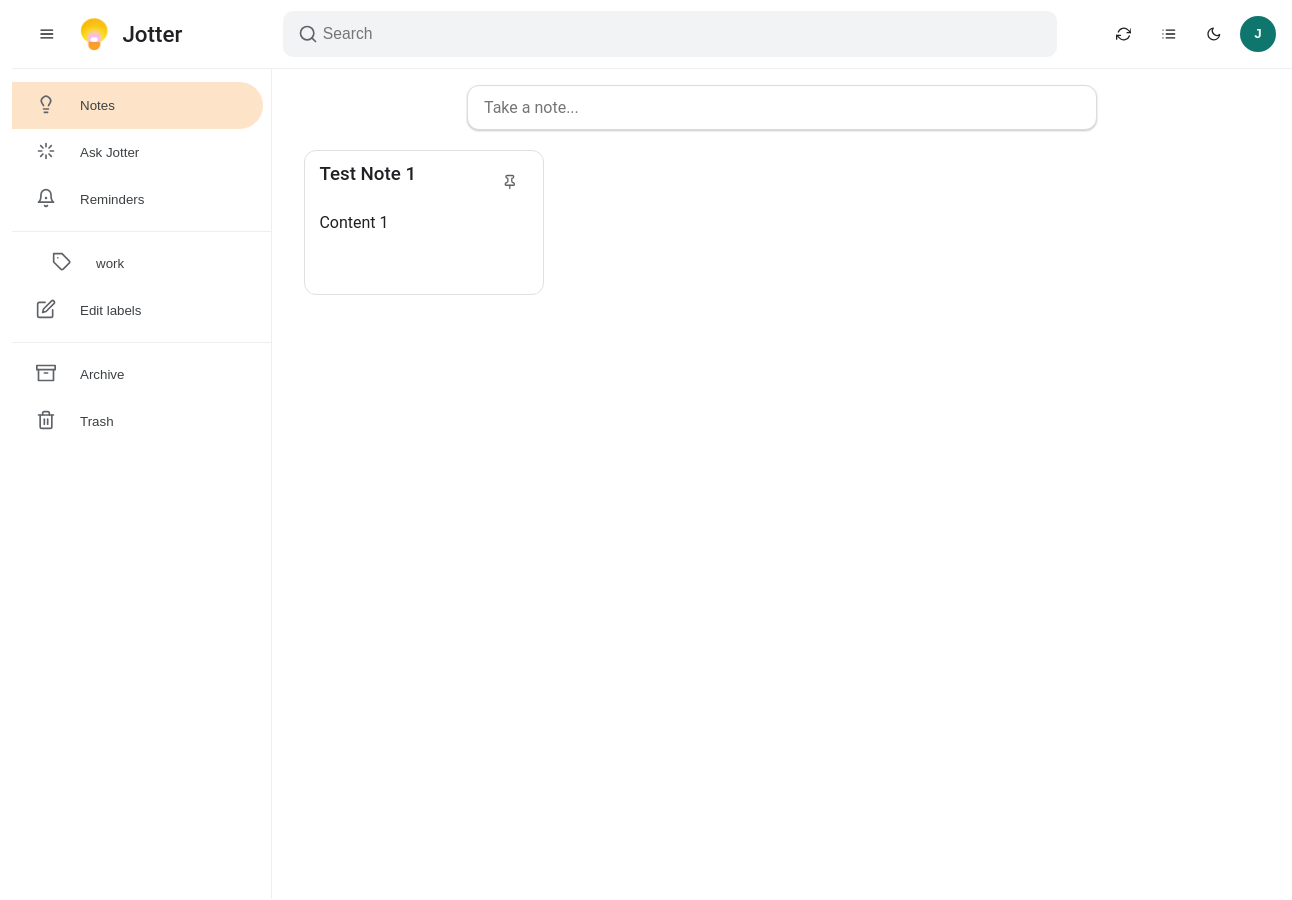
Test: DashboardPage › chats with notes
This screenshot has width=1292, height=900.
Expected: the heading "Test Note 1" is shown, [319,163,416,185]
Click the button labelled "Ask Jotter" at [138, 152], box [12,129,263,176]
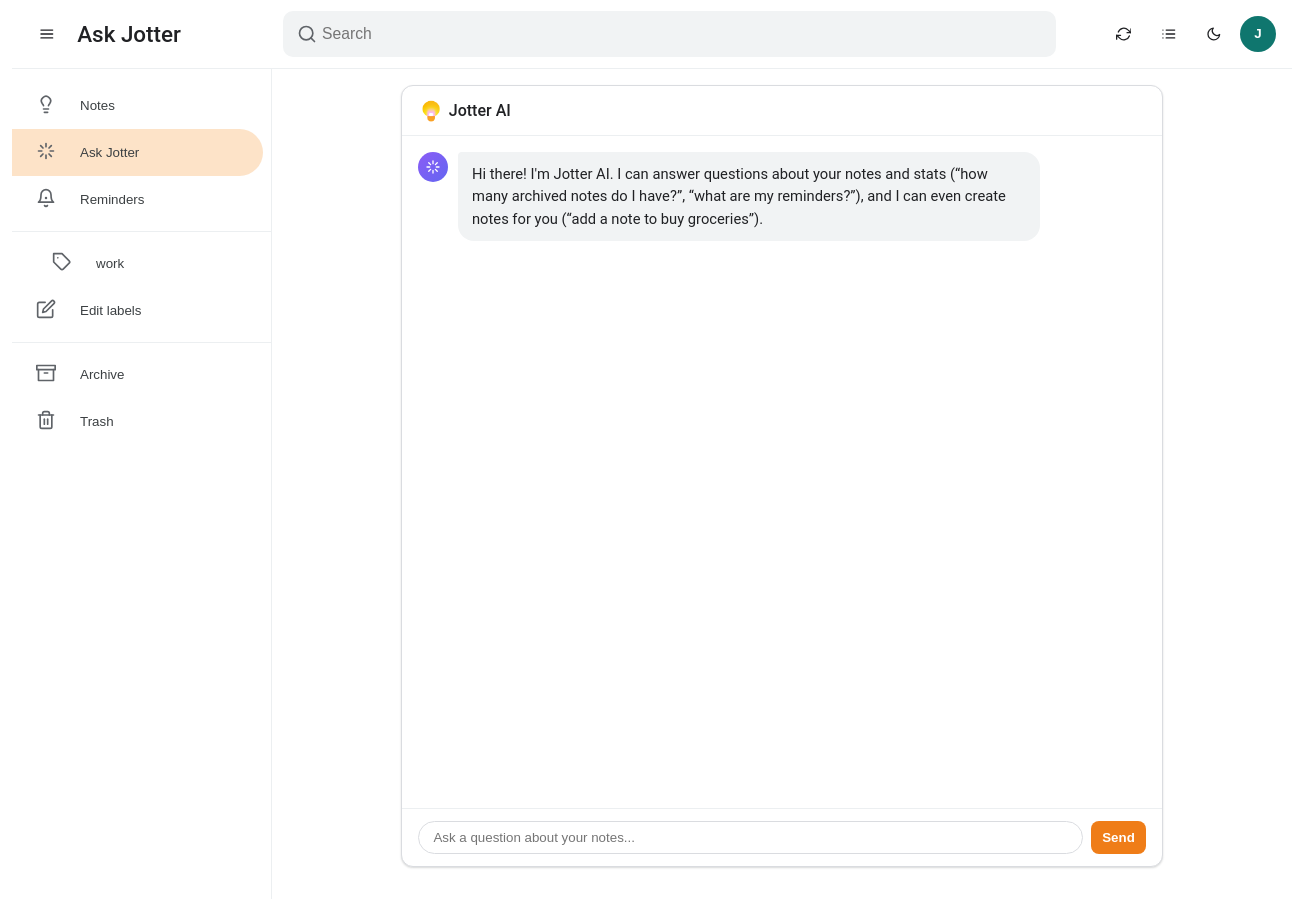
Type "How many notes do I have?" into the field with placeholder "Ask a question about your notes..." at [750, 838], box [418,821,1083,854]
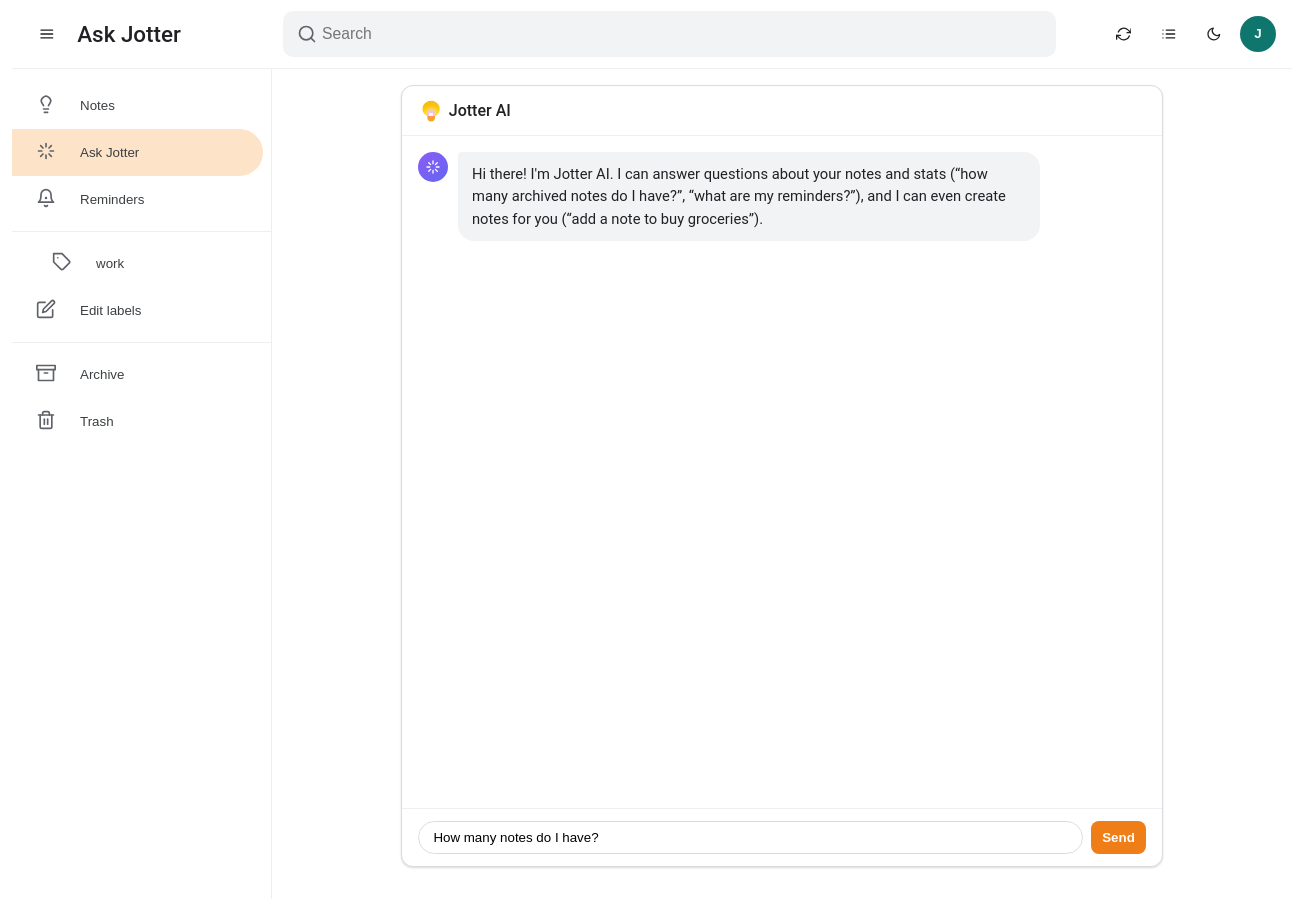
Click the button "Send" at [1118, 838], box [1091,821,1146,854]
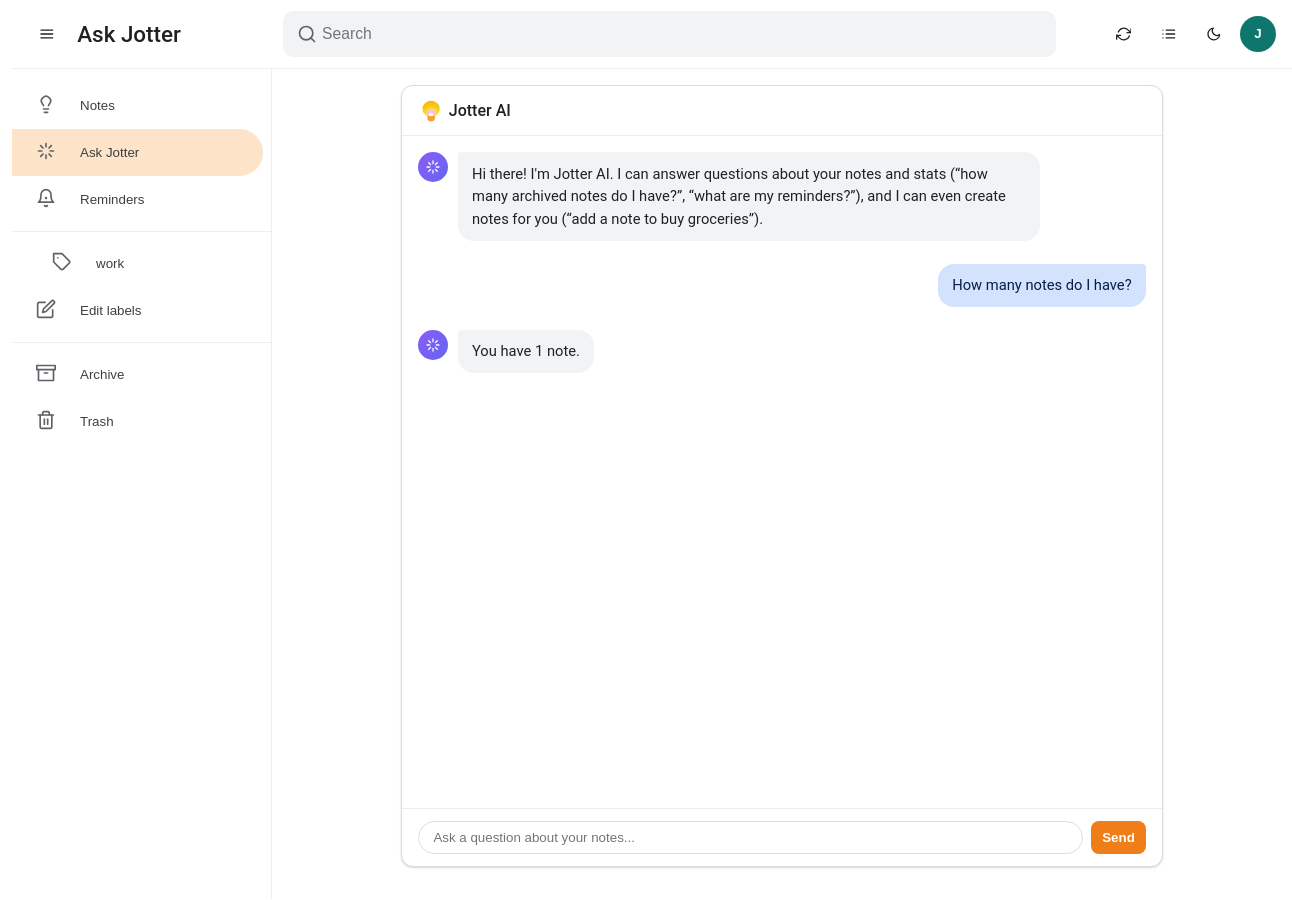
Now the text "You have 1 note." is shown, box [472,340,580,363]
